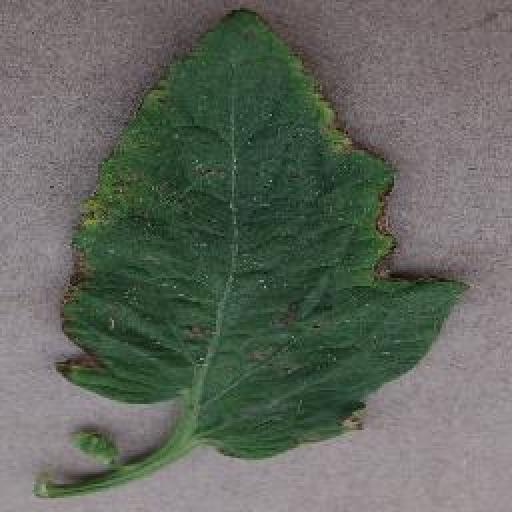Bacterial Spot: (50, 4, 474, 461)
